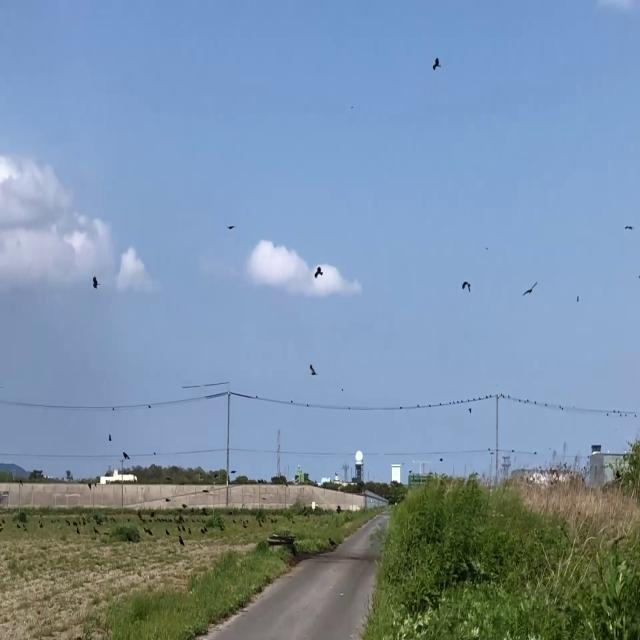bird: (524, 276, 537, 302), (462, 274, 471, 298), (433, 52, 440, 77), (315, 260, 322, 283), (625, 218, 633, 236), (92, 271, 98, 293), (179, 529, 184, 548), (76, 522, 80, 536), (166, 524, 169, 538), (469, 402, 472, 415)
